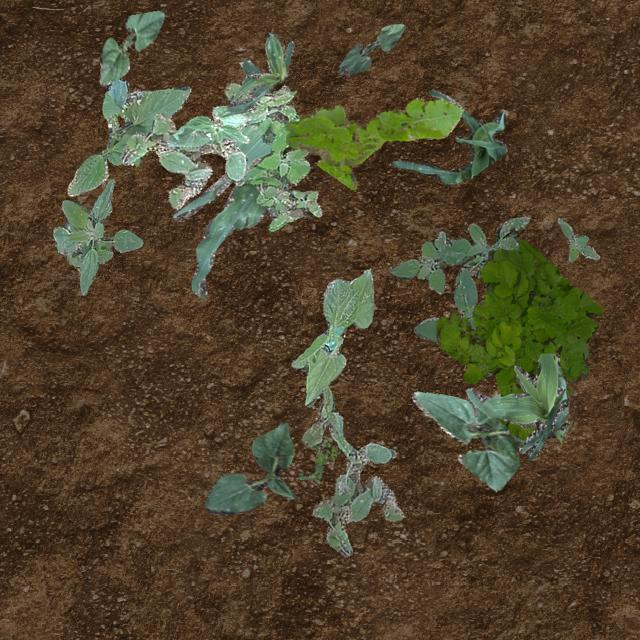crop: (172, 58, 292, 296), (66, 78, 190, 196), (290, 268, 372, 406), (411, 390, 524, 490), (464, 352, 568, 460), (391, 88, 506, 184), (52, 178, 142, 294), (204, 422, 296, 514), (226, 32, 294, 112), (98, 8, 164, 86), (166, 104, 256, 148), (336, 22, 404, 74)
weed: (434, 238, 602, 438), (119, 82, 294, 208), (389, 216, 529, 342), (300, 386, 402, 556), (284, 96, 462, 188), (242, 84, 320, 230), (296, 437, 338, 482), (556, 218, 598, 260)
